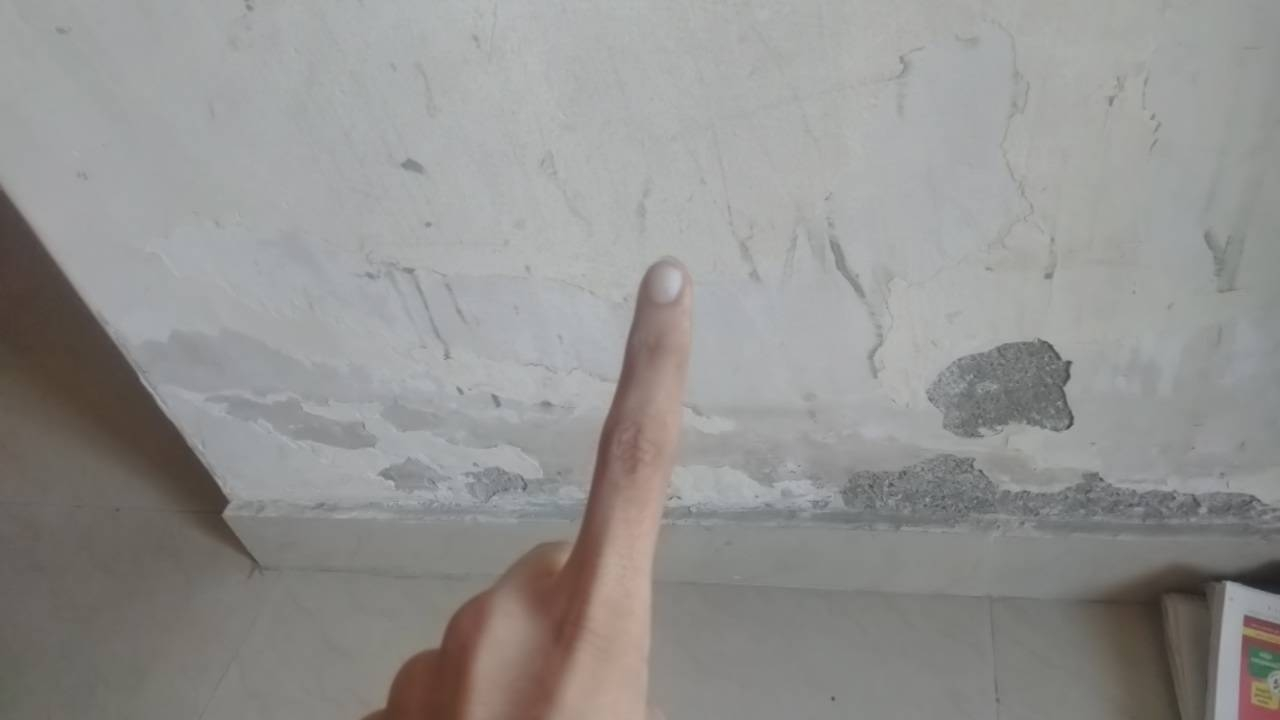fingertip: (632, 254, 700, 318)
